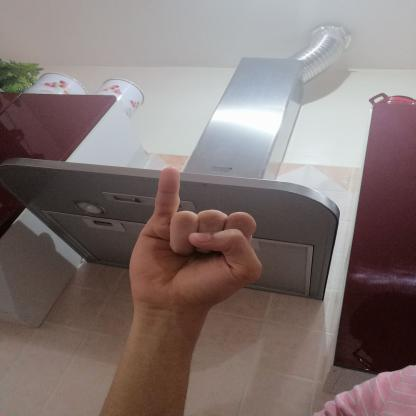MEEM: (109, 157, 280, 322)
